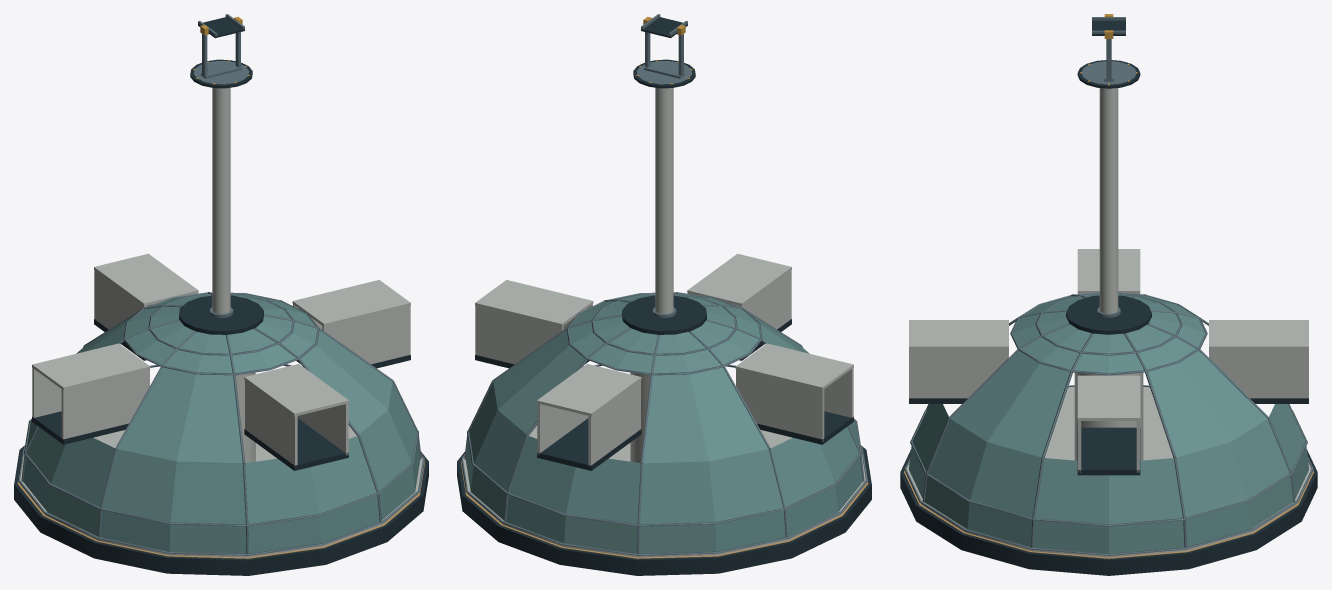
The model's file is habitat_d0_lod2.glb.
3 views of the same model, side by side, from view 1: azimuth 30°, elevation 25°; view 2: azimuth 150°, elevation 25°; view 3: azimuth 270°, elevation 25° (orthographic).
Parts seen in each view (by area): view 1: BODY; view 2: BODY; view 3: BODY.
Boxes of the visible parts, x1,y1,x2,y2 form: BODY: (14, 14, 428, 575); BODY: (457, 14, 871, 575); BODY: (900, 14, 1317, 575).
Bounding box in the file's own units: 29.2 × 35.85 × 29.2.
